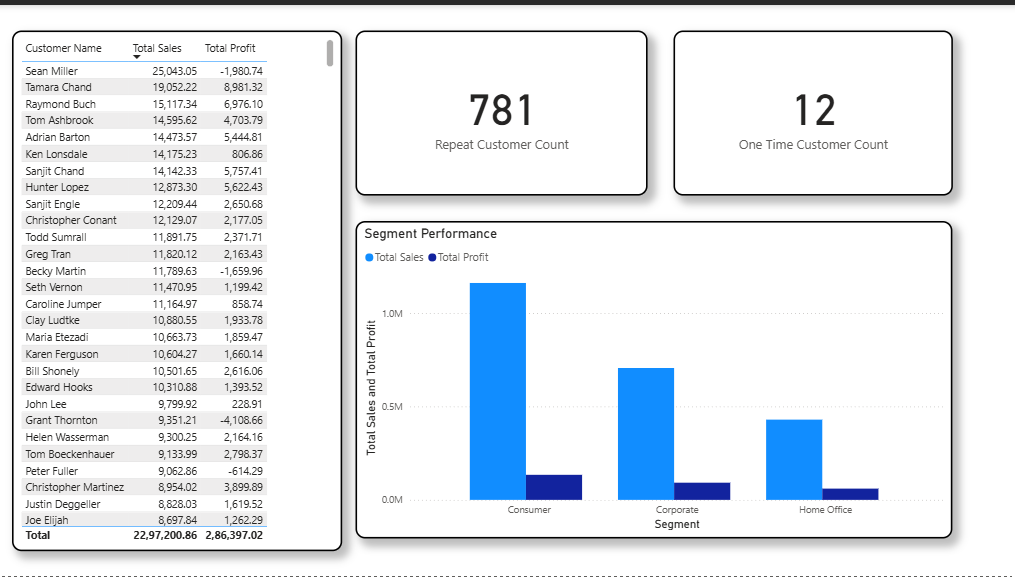

The page's visual inventory and layout, read from the dashboard file:
{"tool":"powerbi","page":{"name":"Consumer Analysis","canvas":[1280,720],"ordinal":1},"visuals":[{"type":"tableEx","title":"Top Customers Table","fields":{"Values":["superstore_cleaned.Customer Name","superstore_cleaned.Total Sales","superstore_cleaned.Total Profit"]},"box":[16,32,416,656],"z":0},{"type":"card","fields":{"Values":["superstore_cleaned.Repeat Customer Count"]},"box":[448,32,368,208],"z":1000},{"type":"card","fields":{"Values":["superstore_cleaned.One Time Customer Count"]},"box":[848,32,352,208],"z":2000},{"type":"clusteredColumnChart","title":"Segment Performance","fields":{"Category":["superstore_cleaned.Segment"],"Y":["superstore_cleaned.Total Sales","superstore_cleaned.Total Profit"]},"box":[448,272,752,400],"z":3000}]}

Visuals, with their boxes in screenshot pixels (x1, y1, x2, y2), scaled from the page's 1280x720 canvas onto the 1015x577 screenshot:
"Top Customers Table" tableEx: (left=13, top=26, right=343, bottom=551)
card - superstore_cleaned.Repeat Customer Count: (left=355, top=26, right=647, bottom=192)
card - superstore_cleaned.One Time Customer Count: (left=672, top=26, right=952, bottom=192)
"Segment Performance" clusteredColumnChart: (left=355, top=218, right=952, bottom=539)
